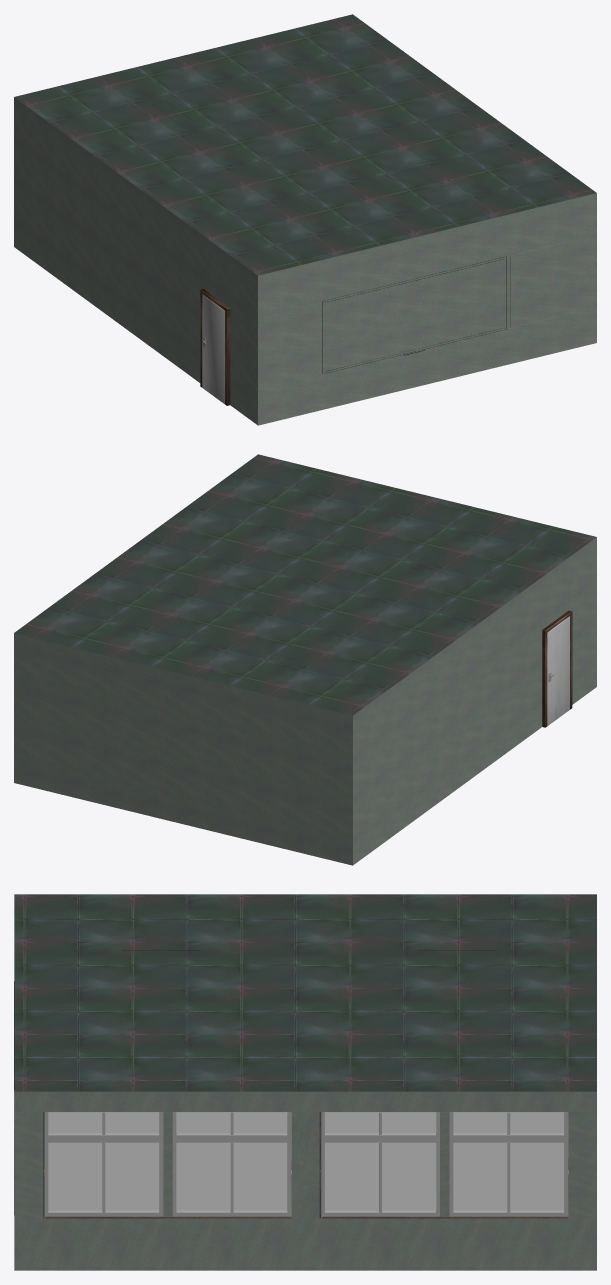
File: classroom.fbx
3 views of the same model, one above another, from view 1: azimuth 30°, elevation 25°; view 2: azimuth 150°, elevation 25°; view 3: azimuth 270°, elevation 25° (orthographic). The views are drawn at different scales.
Parts seen in each view (by area): view 1: wall, ceilling, Door.001|Door_L_door.blend|Dupli|, Collection|board_L_board.blend|Dupli|; view 2: wall, ceilling, Door.001|Door_L_door.blend|Dupli|; view 3: ceilling, wall, Window.003|Glass_L_Window.blend|Dupli|2, Window.002|Glass_L_Window.blend|Dupli|2, Window.003|Window_L_Window.blend|Dupli|1, Window.002|Window_L_Window.blend|Dupli|1, wall.002, wall.001, Window.002|Wall_L_Window.blend|Dupli|, Window.003|Wall_L_Window.blend|Dupli|, Window.002|WindowWoodPlate_L_Window.blend|Dupli|3, Window.003|WindowWoodPlate_L_Window.blend|Dupli|3.
Boxes of the visible parts, x1,y1,x2,y2 form: wall: (14,97,596,425); ceilling: (14,14,596,275); Door.001|Door_L_door.blend|Dupli|: (200,288,230,405); Collection|board_L_board.blend|Dupli|: (322,239,575,373); wall: (14,537,596,865); ceilling: (14,454,596,715); Door.001|Door_L_door.blend|Dupli|: (542,610,572,727); ceilling: (14,894,596,1091); wall: (14,1091,596,1270); Window.003|Glass_L_Window.blend|Dupli|2: (48,1112,287,1210); Window.002|Glass_L_Window.blend|Dupli|2: (325,1112,564,1210); Window.003|Window_L_Window.blend|Dupli|1: (44,1112,291,1216); Window.002|Window_L_Window.blend|Dupli|1: (321,1112,568,1216); wall.002: (14,1112,596,1218); wall.001: (291,1112,320,1218); Window.002|Wall_L_Window.blend|Dupli|: (440,1112,449,1216); Window.003|Wall_L_Window.blend|Dupli|: (163,1112,172,1216); Window.002|WindowWoodPlate_L_Window.blend|Dupli|3: (321,1216,568,1218); Window.003|WindowWoodPlate_L_Window.blend|Dupli|3: (44,1216,291,1218).
Bounding box in the file's own units: 816 × 342 × 1004.
